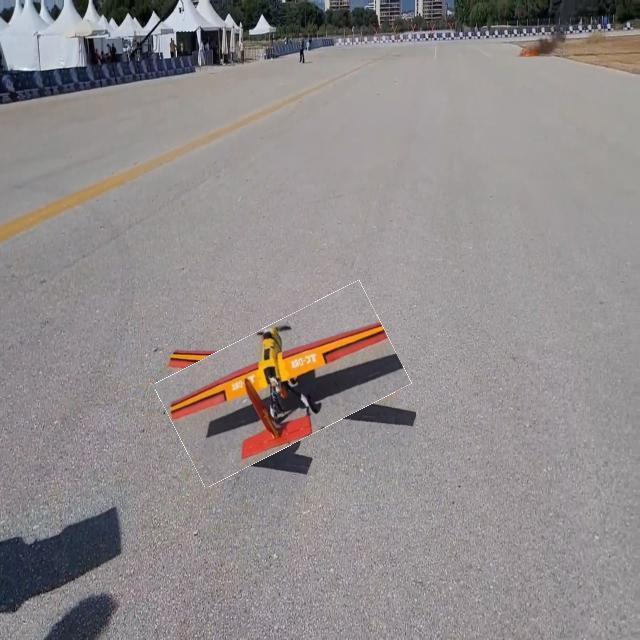iha: (169, 325, 403, 454)
